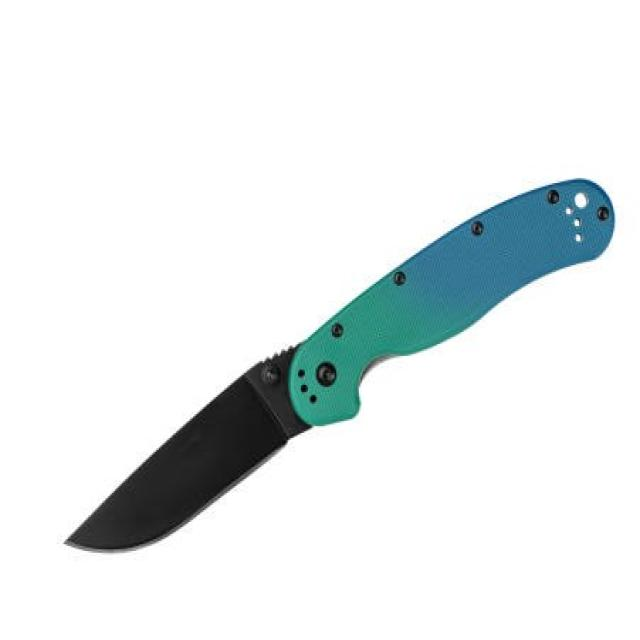knife: (59, 166, 618, 565)
